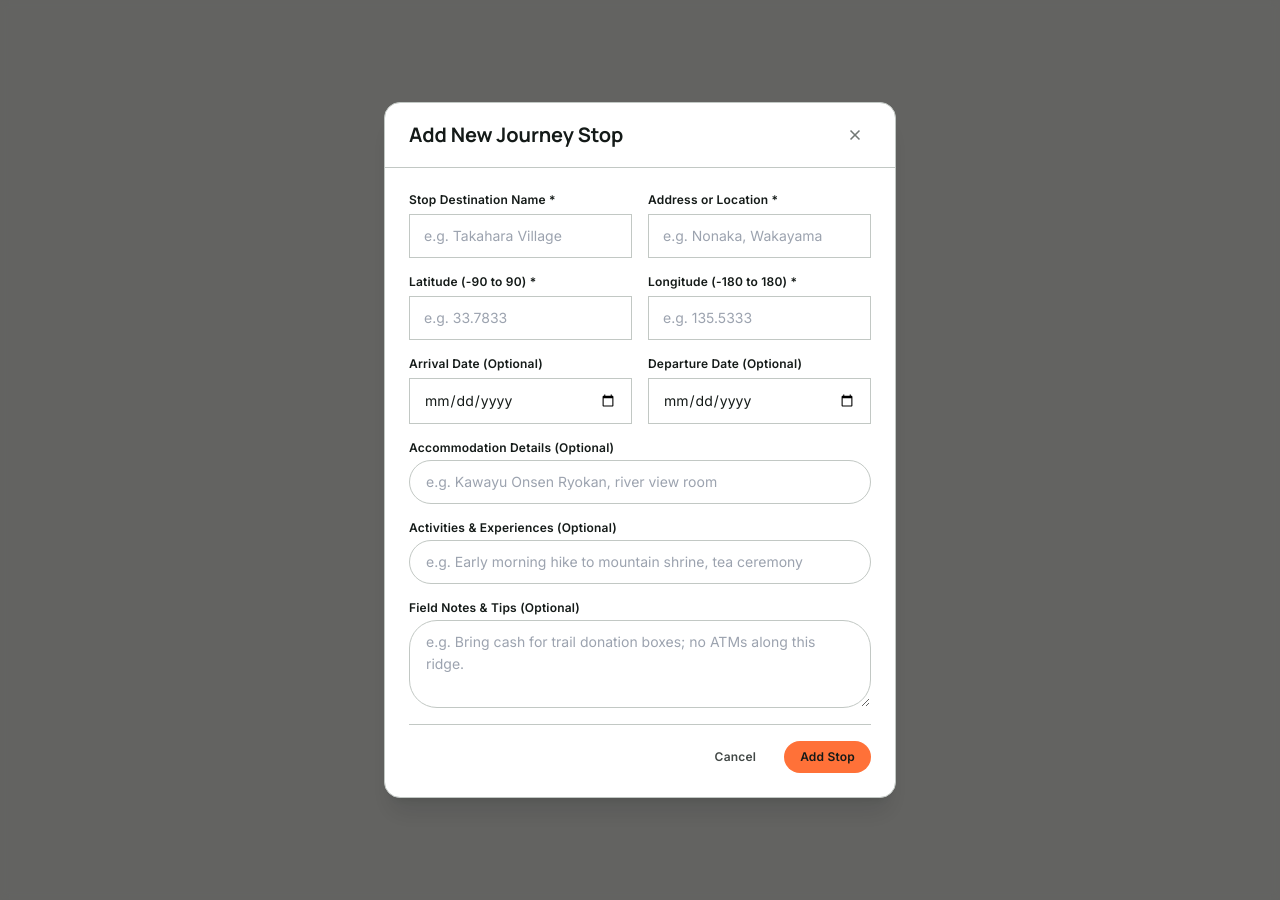
it: Trip Management Frontend Components & Design System Suite › validates required fields and coordinate boundaries in StopModal
Note: Attempt submit with empty form
Click the button "Add Stop".
click(828, 757)  # box [784,741,871,773]
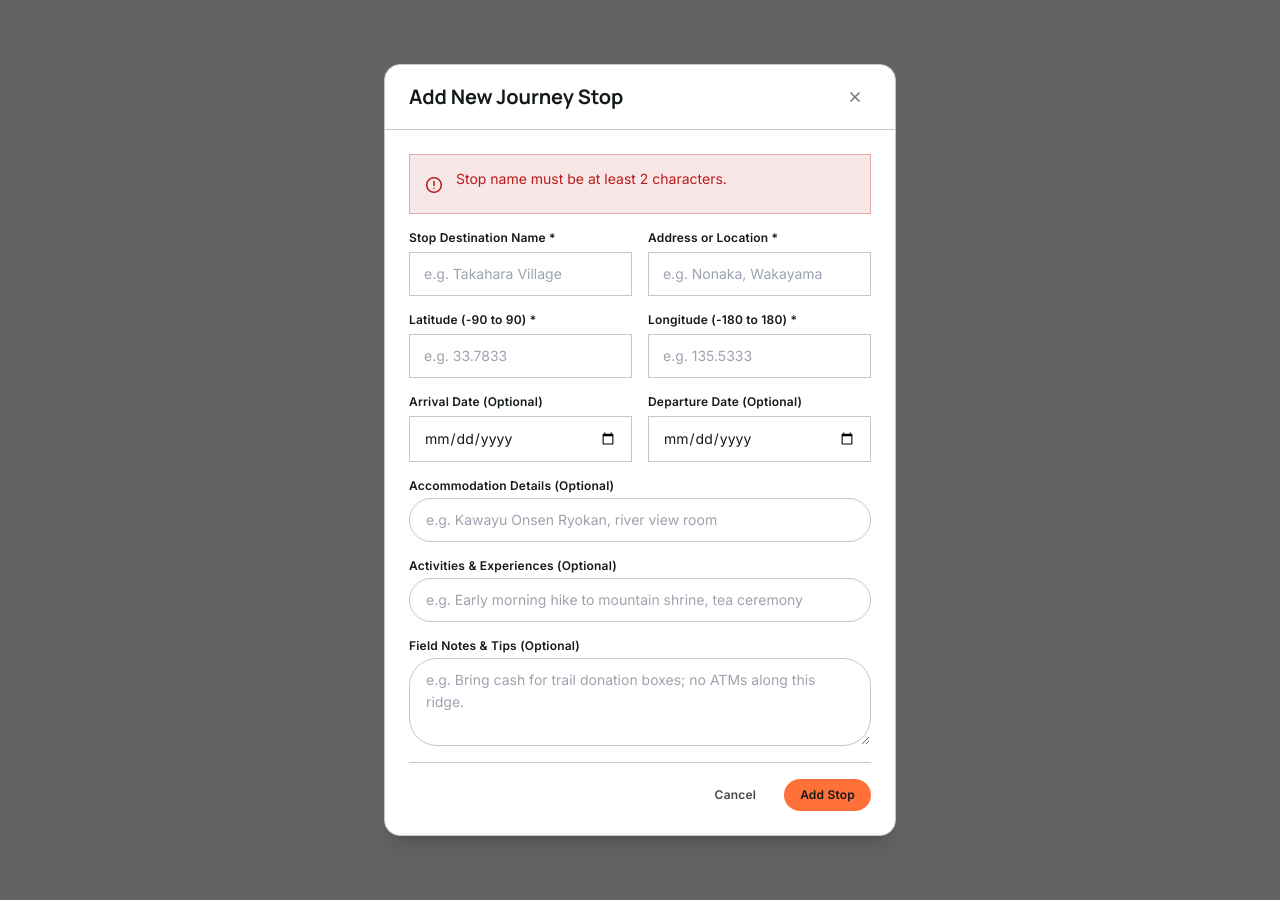
Expected: the text "Stop name must be at least 2 characters." is shown, [456,170,727,187]
Type "Valid Waypoint" into the field with placeholder "e.g. Takahara Village".
click(520, 274); type("Valid Waypoint")  # box [409,252,632,296]
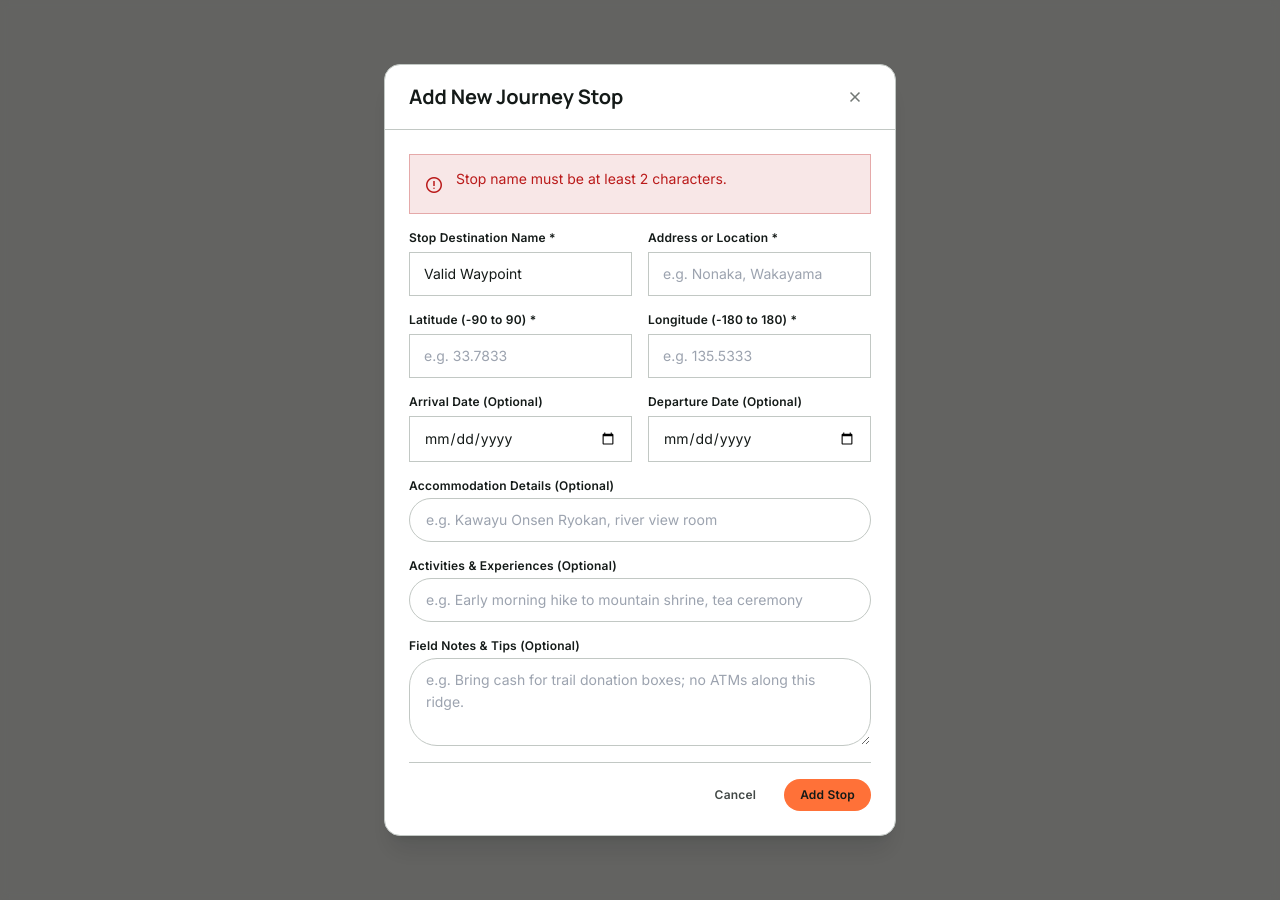
Type "Valid Location" into the field with placeholder "e.g. Nonaka, Wakayama".
click(760, 274); type("Valid Location")  # box [648,252,871,296]
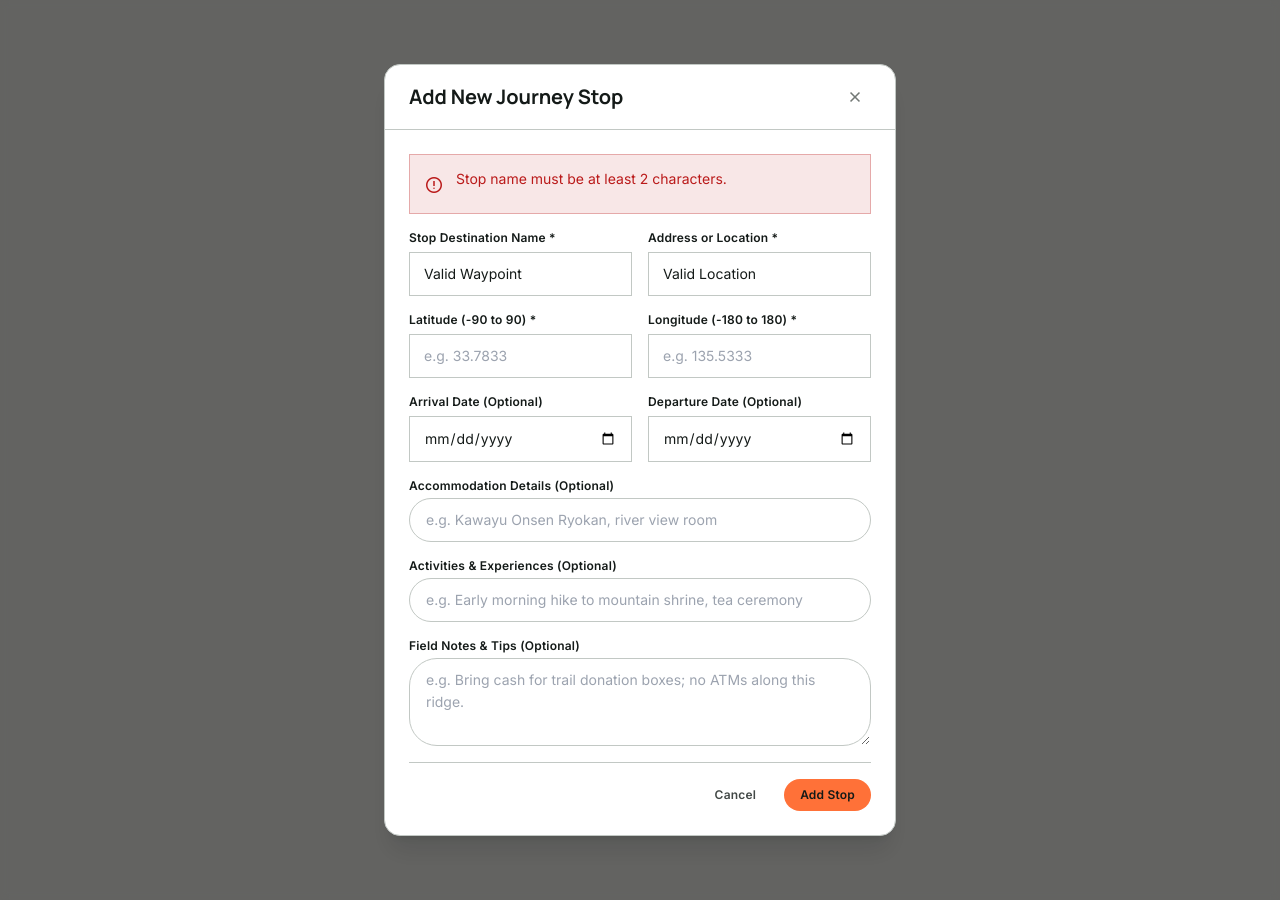
Type "95.5" into the number field with placeholder "e.g. 33.7833".
click(520, 356); type("95.5")  # box [409,334,632,378]
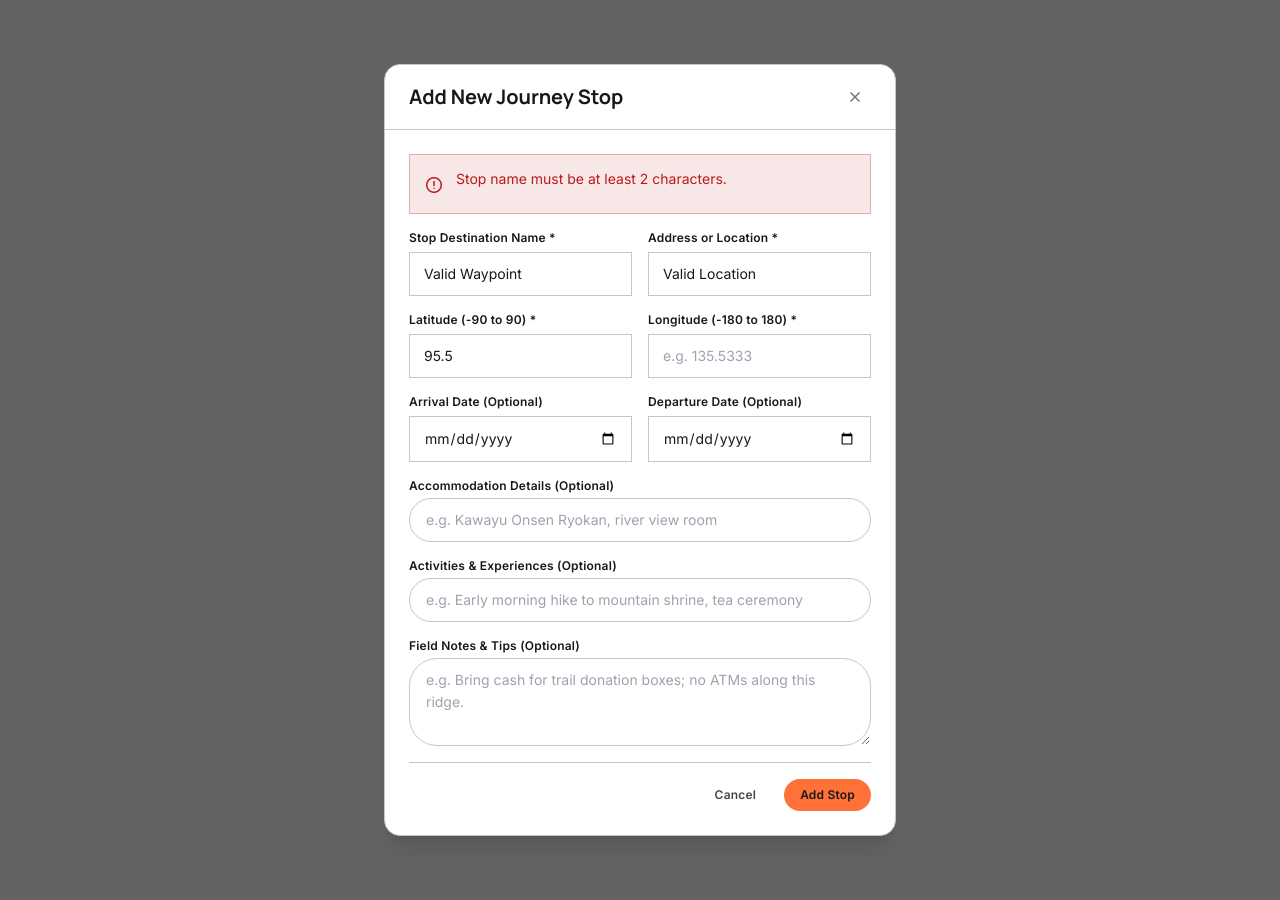
Type "135.5" into the number field with placeholder "e.g. 135.5333".
click(760, 356); type("135.5")  # box [648,334,871,378]
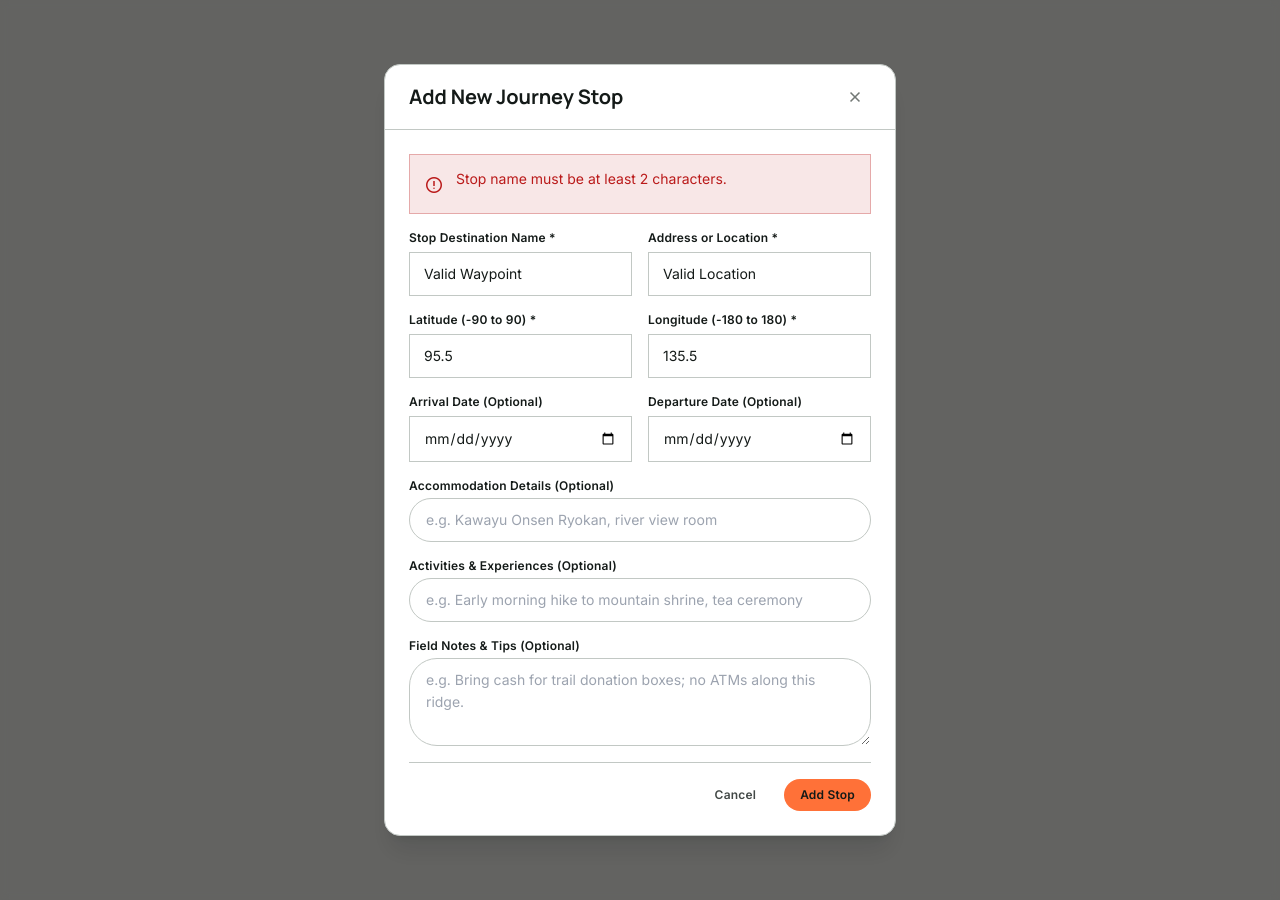
Click the button "Add Stop".
click(828, 795)  # box [784,779,871,811]
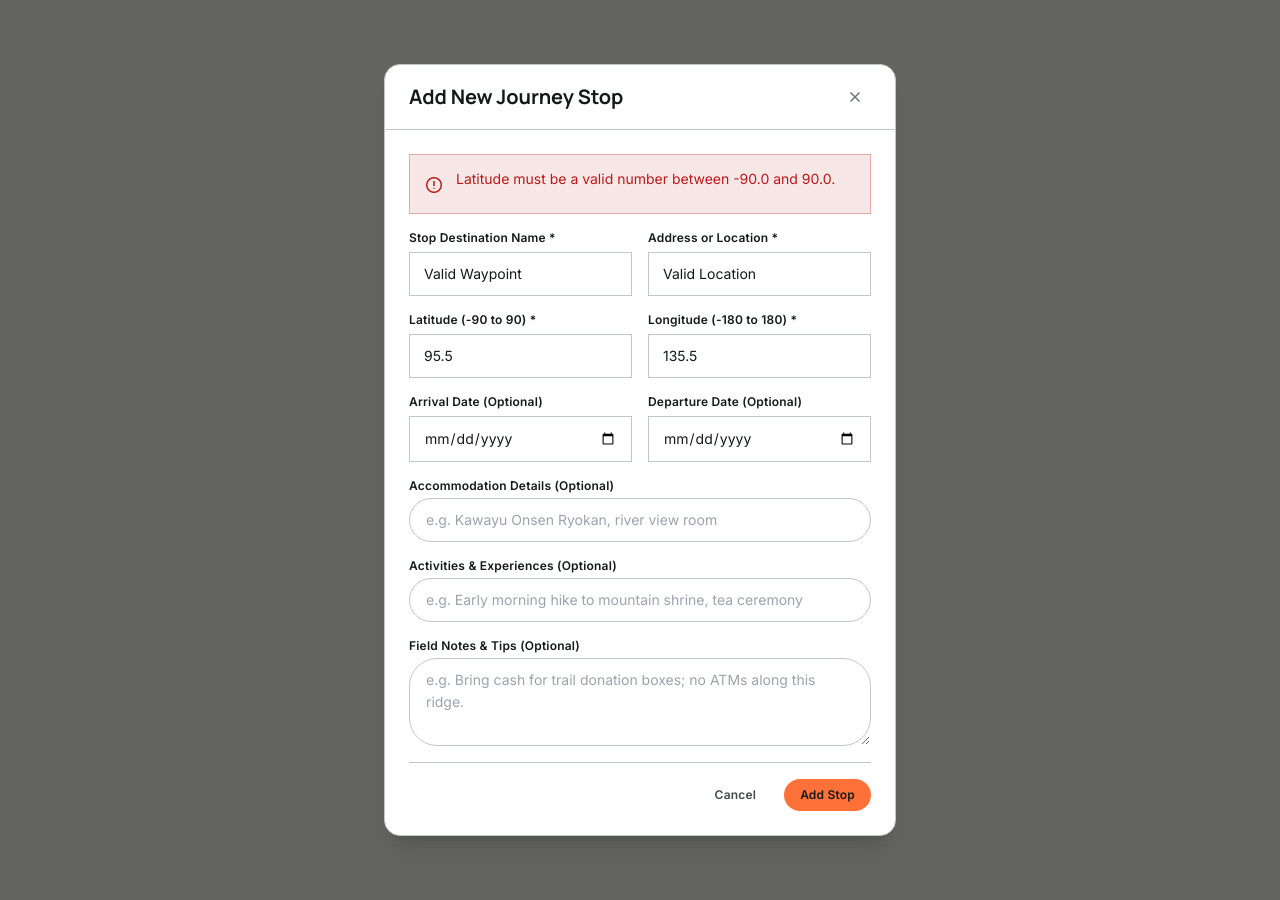
Expected: the text "Latitude must be a valid number between -90.0 and 90.0." is shown, [456,169,856,189]
